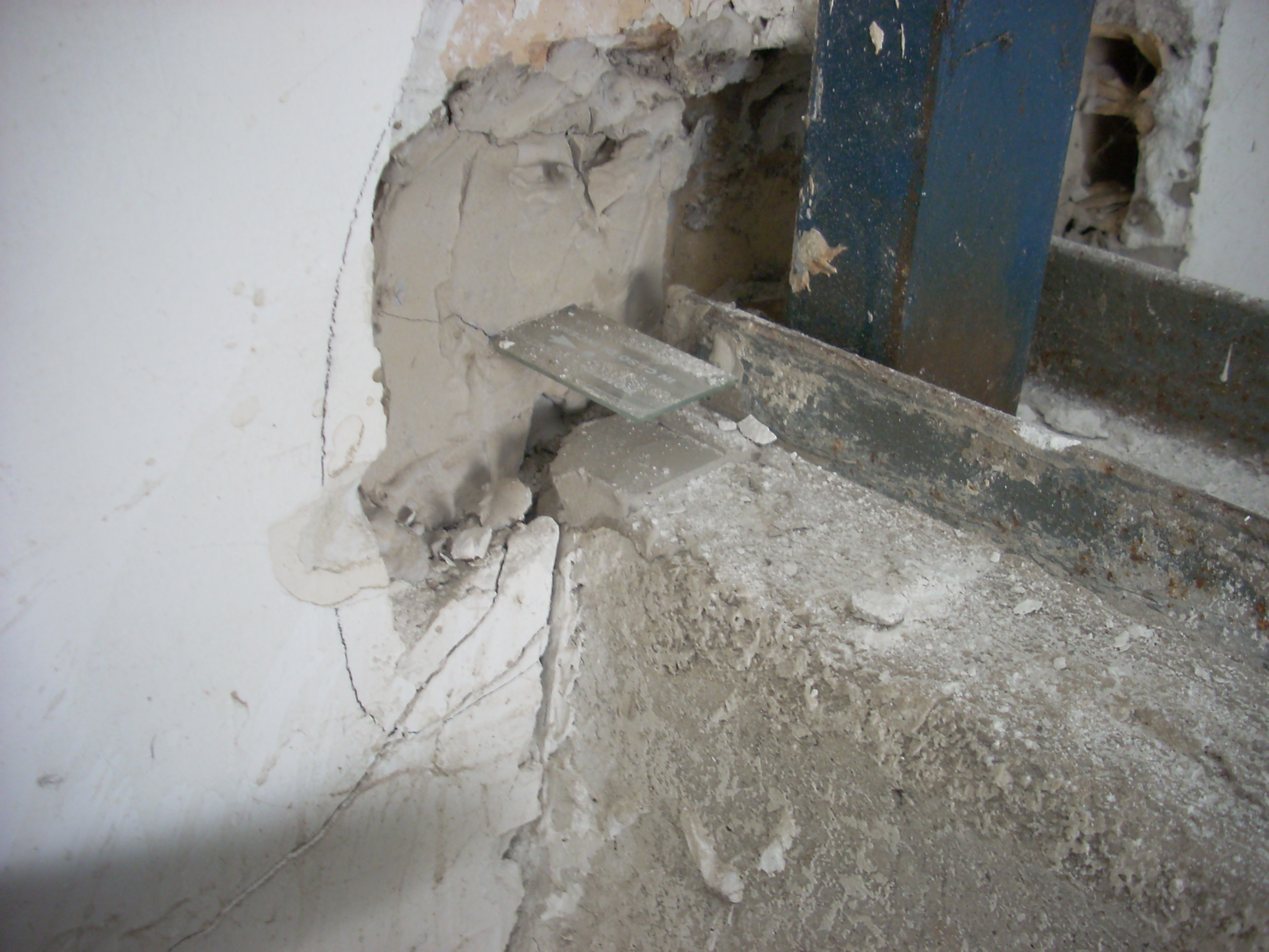Crack: (157, 551, 539, 948)
Spalling: (1055, 13, 1186, 261)
